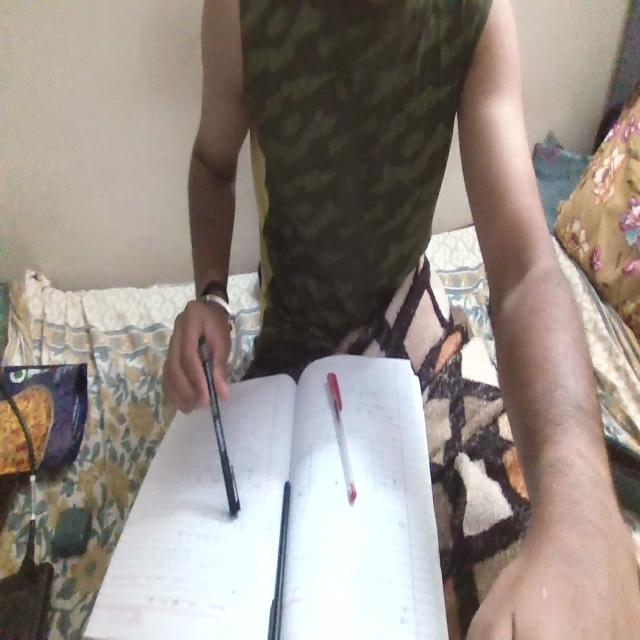pen: (188, 318, 245, 522), (314, 354, 368, 507), (263, 471, 296, 638)
